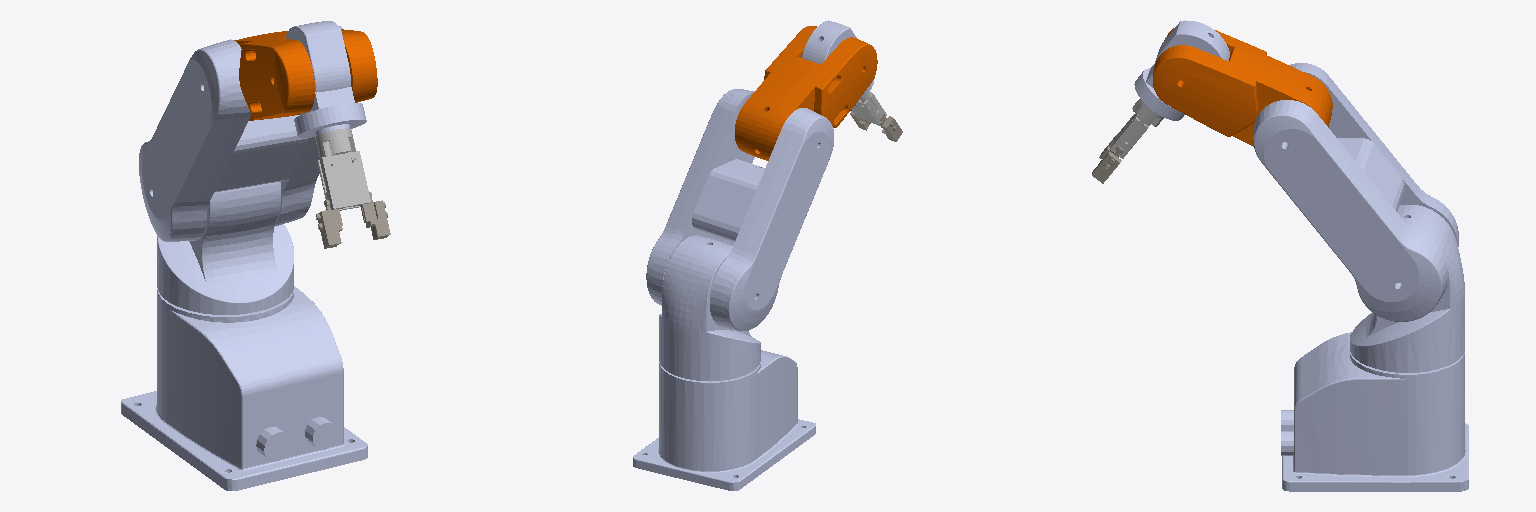
The robot description file, URDF, robot "robot_arm_urdf":
<?xml version="1.0" encoding="utf-8"?>
<!-- This URDF was automatically created by SolidWorks to URDF Exporter! Originally created by [author] ([email redacted]) 
     Commit Version: 1.6.0-4-g7f85cfe  Build Version: 1.6.7995.38578
     For more information, please see http://wiki.ros.org/sw_urdf_exporter -->
<robot
  name="robot_arm_urdf">
  
  <link name="world"/>

  <joint name="base_joint" type="fixed">
	<parent link="world"/>
	<child link="base_link"/>
	<origin rpy="0 0 0" xyz="0.0 0.0 0.5"/>
  </joint>  
  
  
  
  <link
    name="base_link">
    <inertial>
      <origin
        xyz="-0.0540767967464303 -0.106263124625233 0.246590443301322"
        rpy="0 0 0" />
      <mass
        value="5.27195587868769" />
      <inertia
        ixx="0.0326818205429958"
        ixy="-7.79088023223028E-07"
        ixz="4.57620917715321E-06"
        iyy="0.0305073950966135"
        iyz="0.00186666283243735"
        izz="0.0219243063247796" />
    </inertial>
    <visual>
      <origin
        xyz="0 0 0"
        rpy="0 0 0" />
      <geometry>
        <mesh
          filename="package://robot_arm_urdf/meshes/base_link.STL" />
      </geometry>
      <material
        name="">
        <color
          rgba="0.792156862745098 0.819607843137255 0.933333333333333 1" />
      </material>
    </visual>
    <collision>
      <origin
        xyz="0 0 0"
        rpy="0 0 0" />
      <geometry>
        <mesh
          filename="package://robot_arm_urdf/meshes/base_link.STL" />
      </geometry>
    </collision>
  </link>
  <link
    name="link_1">
    <inertial>
      <origin
        xyz="-0.00717312307247658 -1.39940117986626E-07 0.0657148089162543"
        rpy="0 0 0" />
      <mass
        value="2.27919301272485" />
      <inertia
        ixx="0.00916153169968593"
        ixy="-1.64977144793662E-08"
        ixz="-0.000188170996625743"
        iyy="0.00961447985644449"
        iyz="-6.52277732181389E-09"
        izz="0.0051300905067214" />
    </inertial>
    <visual>
      <origin
        xyz="0 0 0"
        rpy="0 0 0" />
      <geometry>
        <mesh
          filename="package://robot_arm_urdf/meshes/link_1.STL" />
      </geometry>
      <material
        name="">
        <color
          rgba="0.792156862745098 0.819607843137255 0.933333333333333 1" />
      </material>
    </visual>
    <collision>
      <origin
        xyz="0 0 0"
        rpy="0 0 0" />
      <geometry>
        <mesh
          filename="package://robot_arm_urdf/meshes/link_1.STL" />
      </geometry>
    </collision>
  </link>
  <joint
    name="joint_1"
    type="revolute">
    <origin
      xyz="-0.05407 -0.2077 0"
      rpy="0 0 -1.7126" />
    <parent
      link="base_link" />
    <child
      link="link_1" />
    <axis
      xyz="0 0 1" />
    <limit
      lower="0"
      upper="6.3"
      effort="0"
      velocity="0" />
  </joint>
  <link
    name="link_2">
    <inertial>
      <origin
        xyz="-0.000459436520975923 0.00199945008721248 0.115006799708699"
        rpy="0 0 0" />
      <mass
        value="3.65434754871776" />
      <inertia
        ixx="0.0396148409036344"
        ixy="1.59915719884912E-08"
        ixz="7.01801370026644E-05"
        iyy="0.0295804832531394"
        iyz="-5.17584061296081E-08"
        izz="0.015467117782803" />
    </inertial>
    <visual>
      <origin
        xyz="0 0 0"
        rpy="0 0 0" />
      <geometry>
        <mesh
          filename="package://robot_arm_urdf/meshes/link_2.STL" />
      </geometry>
      <material
        name="">
        <color
          rgba="0.792156862745098 0.819607843137255 0.933333333333333 1" />
      </material>
    </visual>
    <collision>
      <origin
        xyz="0 0 0"
        rpy="0 0 0" />
      <geometry>
        <mesh
          filename="package://robot_arm_urdf/meshes/link_2.STL" />
      </geometry>
    </collision>
  </link>
  <joint
    name="joint_2"
    type="revolute">
    <origin
      xyz="0 0 0.11721"
      rpy="0 -0.66139 -3.1416" />
    <parent
      link="link_1" />
    <child
      link="link_2" />
    <axis
      xyz="0 1 0" />
    <limit
      lower="-1.1"
      upper="1.9"
      effort="0"
      velocity="0" />
  </joint>
  <link
    name="link_3">
    <inertial>
      <origin
        xyz="7.68678289803093E-06 0.0046704272378181 0.0690777922976957"
        rpy="0 0 0" />
      <mass
        value="1.68405517780249" />
      <inertia
        ixx="0.00828650504475285"
        ixy="-6.27121388290701E-07"
        ixz="1.27485345326151E-06"
        iyy="0.00760337418148533"
        iyz="1.20837304103956E-05"
        izz="0.00278661264147232" />
    </inertial>
    <visual>
      <origin
        xyz="0 0 0"
        rpy="0 0 0" />
      <geometry>
        <mesh
          filename="package://robot_arm_urdf/meshes/link_3.STL" />
      </geometry>
      <material
        name="">
        <color
          rgba="0.905882352941176 0.443137254901961 0.0274509803921569 1" />
      </material>
    </visual>
    <collision>
      <origin
        xyz="0 0 0"
        rpy="0 0 0" />
      <geometry>
        <mesh
          filename="package://robot_arm_urdf/meshes/link_3.STL" />
      </geometry>
    </collision>
  </link>
  <joint
    name="joint_3"
    type="revolute">
    <origin
      xyz="0 0 0.25"
      rpy="0 -0.48202 0" />
    <parent
      link="link_2" />
    <child
      link="link_3" />
    <axis
      xyz="0 1 0" />
    <limit
      lower="-1.1"
      upper="2"
      effort="0"
      velocity="0" />
  </joint>
  <link
    name="link_4">
    <inertial>
      <origin
        xyz="-3.66723799805069E-06 0.00600452948745996 0.00952130216220282"
        rpy="0 0 0" />
      <mass
        value="0.424276815995709" />
      <inertia
        ixx="0.000343358198386492"
        ixy="-1.90824373622117E-08"
        ixz="1.78297493047975E-08"
        iyy="0.000454848536646014"
        iyz="-2.19191542161725E-08"
        izz="0.000296376747157703" />
    </inertial>
    <visual>
      <origin
        xyz="0 0 0"
        rpy="0 0 0" />
      <geometry>
        <mesh
          filename="package://robot_arm_urdf/meshes/link_4.STL" />
      </geometry>
      <material
        name="">
        <color
          rgba="0.792156862745098 0.819607843137255 0.933333333333333 1" />
      </material>
    </visual>
    <collision>
      <origin
        xyz="0 0 0"
        rpy="0 0 0" />
      <geometry>
        <mesh
          filename="package://robot_arm_urdf/meshes/link_4.STL" />
      </geometry>
    </collision>
  </link>
  <joint
    name="joint_4"
    type="revolute">
    <origin
      xyz="0 0 0.16"
      rpy="0 -1.3772 0" />
    <parent
      link="link_3" />
    <child
      link="link_4" />
    <axis
      xyz="0 1 0" />
    <limit
      lower="-0.12"
      upper="2.9"
      effort="0"
      velocity="0" />
  </joint>
  <link
    name="link_5">
    <inertial>
      <origin
        xyz="-2.49204319317103E-05 -0.0179330993605767 -7.86535702568258E-06"
        rpy="0 0 0" />
      <mass
        value="0.0819733708115497" />
      <inertia
        ixx="1.21705762260731E-05"
        ixy="-2.05926991992903E-09"
        ixz="1.38754786921361E-08"
        iyy="1.72864471202043E-05"
        iyz="-6.41697582586296E-10"
        izz="1.84419340892208E-05" />
    </inertial>
    <visual>
      <origin
        xyz="0 0 0"
        rpy="0 0 0" />
      <geometry>
        <mesh
          filename="package://robot_arm_urdf/meshes/link_5.STL" />
      </geometry>
      <material
        name="">
        <color
          rgba="0.752941176470588 0.752941176470588 0.752941176470588 1" />
      </material>
    </visual>
    <collision>
      <origin
        xyz="0 0 0"
        rpy="0 0 0" />
      <geometry>
        <mesh
          filename="package://robot_arm_urdf/meshes/link_5.STL" />
      </geometry>
    </collision>
  </link>
  <joint
    name="joint_5"
    type="revolute">
    <origin
      xyz="0 0.006 0.092597"
      rpy="-1.5708 0 1.617" />
    <parent
      link="link_4" />
    <child
      link="link_5" />
    <axis
      xyz="0 1 0" />
    <limit
      lower="-1.7"
      upper="1.7"
      effort="0"
      velocity="0" />
  </joint>
  <link
    name="link_6">
    <inertial>
      <origin
        xyz="-0.0266222986232387 0.00815698446990051 0"
        rpy="0 0 0" />
      <mass
        value="0.0150918233602597" />
      <inertia
        ixx="2.00530336430887E-06"
        ixy="-9.15038083557073E-09"
        ixz="-2.93814553578835E-21"
        iyy="7.61427860586085E-07"
        iyz="-1.7814161671942E-20"
        izz="1.99784653290047E-06" />
    </inertial>
    <visual>
      <origin
        xyz="0 0 0"
        rpy="0 0 0" />
      <geometry>
        <mesh
          filename="package://robot_arm_urdf/meshes/link_6.STL" />
      </geometry>
      <material
        name="">
        <color
          rgba="0.647058823529412 0.619607843137255 0.584313725490196 1" />
      </material>
    </visual>
    <collision>
      <origin
        xyz="0 0 0"
        rpy="0 0 0" />
      <geometry>
        <mesh
          filename="package://robot_arm_urdf/meshes/link_6.STL" />
      </geometry>
    </collision>
  </link>
  <joint
    name="joint_6"
    type="prismatic">
    <origin
      xyz="0 -0.07179 0"
      rpy="3.1416 0 0" />
    <parent
      link="link_5" />
    <child
      link="link_6" />
    <axis
      xyz="-1 0 0" />
    <limit
      lower="-0.0025"
      upper="0.0047"
      effort="0"
      velocity="0" />
  </joint>
  <link
    name="link_7">
    <inertial>
      <origin
        xyz="-0.0266222986232387 0.00815698446990071 0"
        rpy="0 0 0" />
      <mass
        value="0.0150918233602596" />
      <inertia
        ixx="2.00530336430887E-06"
        ixy="-9.15038083556894E-09"
        ixz="-2.93814553578835E-21"
        iyy="7.61427860586084E-07"
        iyz="-1.91376506520268E-20"
        izz="1.99784653290047E-06" />
    </inertial>
    <visual>
      <origin
        xyz="0 0 0"
        rpy="0 0 0" />
      <geometry>
        <mesh
          filename="package://robot_arm_urdf/meshes/link_7.STL" />
      </geometry>
      <material
        name="">
        <color
          rgba="0.647058823529412 0.619607843137255 0.584313725490196 1" />
      </material>
    </visual>
    <collision>
      <origin
        xyz="0 0 0"
        rpy="0 0 0" />
      <geometry>
        <mesh
          filename="package://robot_arm_urdf/meshes/link_7.STL" />
      </geometry>
    </collision>
  </link>
  <joint
    name="joint_7"
    type="prismatic">
    <origin
      xyz="0 -0.07179 0"
      rpy="0 0 3.1416" />
    <parent
      link="link_5" />
    <child
      link="link_7" />
    <axis
      xyz="1 0 0" />
    <limit
      lower="-0.0047"
      upper="0.0025"
      effort="0"
      velocity="0" />
  </joint>
  
  <transmission name="link_1_trans">
	<type>transmission_interface/SimpleTransmission</type>
	<joint name="joint_1">
		<hardwareInterface>hardware_interface/PositionJointInterface</hardwareInterface>
	</joint>
	<actuator name="link_1_motor">
		<hardwareInterface>hardware_interface/PositionJointInterface</hardwareInterface>
		<mechanicalReduction>1</mechanicalReduction>
	</actuator>
  </transmission>  
  
  <transmission name="link_2_trans">
	<type>transmission_interface/SimpleTransmission</type>
	<joint name="joint_2">
		<hardwareInterface>hardware_interface/PositionJointInterface</hardwareInterface>
	</joint>
	<actuator name="link_2_motor">
		<hardwareInterface>hardware_interface/PositionJointInterface</hardwareInterface>
		<mechanicalReduction>1</mechanicalReduction>
	</actuator>
  </transmission>  
  
  <transmission name="link_3_trans">
	<type>transmission_interface/SimpleTransmission</type>
	<joint name="joint_3">
		<hardwareInterface>hardware_interface/PositionJointInterface</hardwareInterface>
	</joint>
	<actuator name="link_3_motor">
		<hardwareInterface>hardware_interface/PositionJointInterface</hardwareInterface>
		<mechanicalReduction>1</mechanicalReduction>
	</actuator>
  </transmission>  
  
  <transmission name="link_4_trans">
	<type>transmission_interface/SimpleTransmission</type>
	<joint name="joint_4">
		<hardwareInterface>hardware_interface/PositionJointInterface</hardwareInterface>
	</joint>
	<actuator name="link_4_motor">
		<hardwareInterface>hardware_interface/PositionJointInterface</hardwareInterface>
		<mechanicalReduction>1</mechanicalReduction>
	</actuator>
  </transmission>  
  
  <transmission name="link_5_trans">
	<type>transmission_interface/SimpleTransmission</type>
	<joint name="joint_5">
		<hardwareInterface>hardware_interface/PositionJointInterface</hardwareInterface>
	</joint>
	<actuator name="link_5_motor">
		<hardwareInterface>hardware_interface/PositionJointInterface</hardwareInterface>
		<mechanicalReduction>1</mechanicalReduction>
	</actuator>
  </transmission>
  
  <transmission name="link_6_trans">
	<type>transmission_interface/SimpleTransmission</type>
	<joint name="joint_6">
		<hardwareInterface>hardware_interface/PositionJointInterface</hardwareInterface>
	</joint>
	<actuator name="link_6_motor">
		<hardwareInterface>hardware_interface/PositionJointInterface</hardwareInterface>
		<mechanicalReduction>1</mechanicalReduction>
	</actuator>
  </transmission>  
  
  <transmission name="link_7_trans">
	<type>transmission_interface/SimpleTransmission</type>
	<joint name="joint_7">
		<hardwareInterface>hardware_interface/PositionJointInterface</hardwareInterface>
	</joint>
	<actuator name="link_7_motor">
		<hardwareInterface>hardware_interface/PositionJointInterface</hardwareInterface>
		<mechanicalReduction>1</mechanicalReduction>
	</actuator>
  </transmission>  
  
  <gazebo>
	<plugin name="control" filename="libgazebo_ros_control.so">
		<robotNamespace>/</robotNamespace>
	</plugin>
  </gazebo>  
    
  <gazebo reference="link_1">
	<selfCollide>true</selfCollide>
  </gazebo>  
  
  <gazebo reference="link_2">
	<selfCollide>true</selfCollide>
  </gazebo>  
  
  <gazebo reference="link_3">
	<selfCollide>true</selfCollide>
  </gazebo>  
  
  <gazebo reference="link_4">
	<selfCollide>true</selfCollide>
  </gazebo>  
  
  <gazebo reference="link_5">
	<selfCollide>true</selfCollide>
  </gazebo>  
  
  <gazebo reference="link_6">
	<selfCollide>true</selfCollide>
  </gazebo>

  <gazebo reference="link_7">
	<selfCollide>true</selfCollide>
  </gazebo>
  
</robot>

--- Facts derived from the render (not from the file) ---
The picture shows the robot from 3 angles, left to right: view 1: azimuth 30°, elevation 25°; view 2: azimuth 150°, elevation 25°; view 3: azimuth 270°, elevation 25°; orthographic projection.
Robot: robot_arm_urdf — 9 links, 8 joints (5 revolute, 2 prismatic, 1 fixed); root link world; default pose: every joint at zero.
Visible links, largest first — view 1: base_link, link_2, link_1, link_3, link_4, link_5, link_7, link_6; view 2: link_2, base_link, link_1, link_3, link_4, link_5; view 3: link_2, base_link, link_3, link_1, link_4, link_5, link_6.
Link boxes in pixels (<box>): base_link: <box>121,286,367,490</box>; link_2: <box>139,26,342,241</box>; link_1: <box>157,181,293,314</box>; link_3: <box>234,29,377,120</box>; link_4: <box>285,21,366,137</box>; link_5: <box>315,128,370,210</box>; link_7: <box>316,200,342,248</box>; link_6: <box>353,192,390,239</box>; link_2: <box>646,89,833,330</box>; base_link: <box>633,350,815,490</box>; link_1: <box>659,235,760,380</box>; link_3: <box>735,26,877,160</box>; link_4: <box>802,20,874,101</box>; link_5: <box>852,92,886,125</box>; link_2: <box>1253,63,1458,321</box>; base_link: <box>1281,332,1468,491</box>; link_3: <box>1153,28,1332,146</box>; link_1: <box>1350,205,1464,372</box>; link_4: <box>1134,20,1229,120</box>; link_5: <box>1110,99,1163,158</box>; link_6: <box>1092,146,1123,183</box>.
Bounding box of the posed robot: 0.2078 × 0.5055 × 0.6206 m (x, y, z).
8 mesh visuals loaded from 8 distinct referenced files (8 binary STL).
